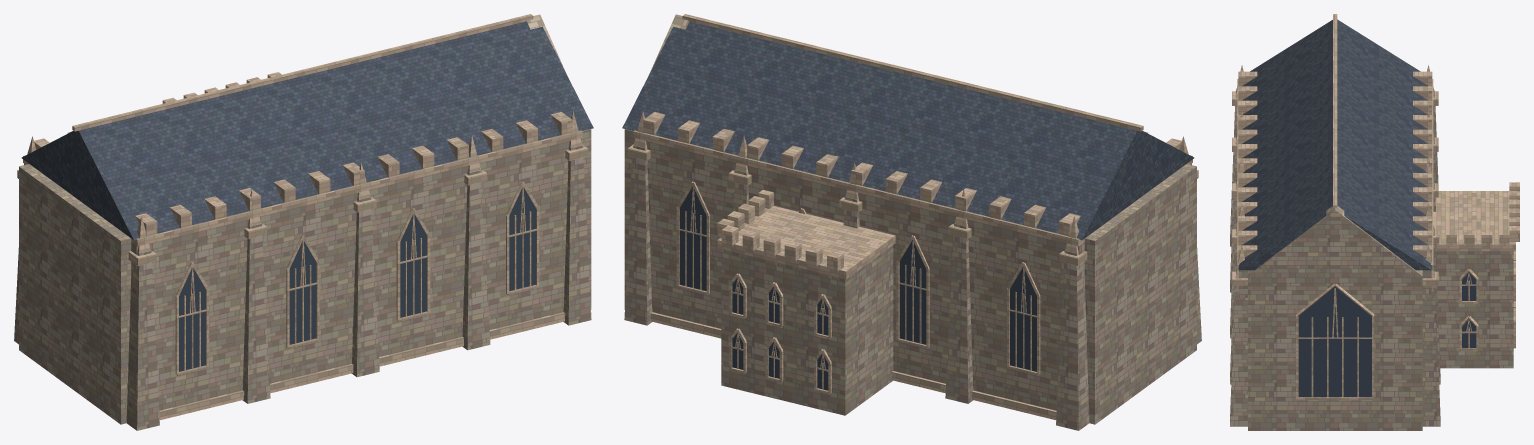
3 views of the same model, side by side, from view 1: azimuth 30°, elevation 25°; view 2: azimuth 150°, elevation 25°; view 3: azimuth 270°, elevation 25° (orthographic). The views are drawn at different scales.
Parts seen in each view (by area): view 1: Choir slate gabled roof002, Choir south wall002, Choir west transition wall002, Choir South buttress 003, Choir south parapet band002, Choir South buttress 008, Choir South buttress 007, Choir South buttress 009, Choir South buttress 010, Choir south plinth course002, Choir roof ridge coping002, Choir south lancet window 4_dark_glass002 (+4 smaller); view 2: Choir slate gabled roof002, Choir north wall002, Choir west transition wall002, Chapter house north block002, Chapter house parapet coping002, Choir North buttress 011, Choir north parapet band002, Choir North buttress 007, Choir North buttress 010, Choir roof ridge coping002, Choir north lancet window 2_dark_glass002, Choir north lancet window 4_dark_glass002 (+3 smaller); view 3: Choir slate gabled roof002, Choir east end wall002, Chapter house north block002, Choir east five-light window_dark_glass002, Choir east gable002, Chapter house parapet coping002, Choir North buttress 007, Choir South buttress 007, Choir roof ridge coping002, Choir north parapet band002, Choir south parapet band002, Chapter house east window 1_dark_glass002 (+7 smaller).
Boxes of the visible parts, bbox=[...] form: Choir slate gabled roof002: bbox=[21, 21, 593, 240]; Choir south wall002: bbox=[131, 138, 581, 410]; Choir west transition wall002: bbox=[19, 164, 131, 424]; Choir South buttress 003: bbox=[126, 250, 159, 430]; Choir south parapet band002: bbox=[131, 130, 582, 246]; Choir South buttress 008: bbox=[462, 170, 490, 350]; Choir South buttress 007: bbox=[563, 145, 591, 325]; Choir South buttress 009: bbox=[352, 197, 379, 377]; Choir South buttress 010: bbox=[242, 223, 270, 403]; Choir south plinth course002: bbox=[159, 312, 565, 419]; Choir roof ridge coping002: bbox=[72, 14, 533, 131]; Choir south lancet window 4_dark_glass002: bbox=[509, 187, 536, 290]; Choir slate gabled roof002: bbox=[622, 21, 1194, 240]; Choir north wall002: bbox=[634, 138, 1084, 410]; Choir west transition wall002: bbox=[1084, 164, 1196, 424]; Chapter house north block002: bbox=[721, 245, 893, 415]; Chapter house parapet coping002: bbox=[717, 206, 895, 279]; Choir North buttress 011: bbox=[1056, 250, 1089, 430]; Choir north parapet band002: bbox=[633, 130, 1084, 246]; Choir North buttress 007: bbox=[624, 145, 652, 325]; Choir North buttress 010: bbox=[945, 223, 973, 403]; Choir roof ridge coping002: bbox=[682, 14, 1143, 131]; Choir north lancet window 2_dark_glass002: bbox=[899, 240, 926, 344]; Choir north lancet window 4_dark_glass002: bbox=[679, 187, 706, 290]; Choir slate gabled roof002: bbox=[1238, 19, 1431, 270]; Choir east end wall002: bbox=[1248, 276, 1422, 430]; Chapter house north block002: bbox=[1436, 251, 1513, 368]; Choir east five-light window_dark_glass002: bbox=[1298, 287, 1371, 397]; Choir east gable002: bbox=[1248, 205, 1422, 276]; Chapter house parapet coping002: bbox=[1433, 191, 1515, 251]; Choir North buttress 007: bbox=[1422, 271, 1440, 426]; Choir South buttress 007: bbox=[1230, 271, 1247, 426]; Choir roof ridge coping002: bbox=[1333, 14, 1337, 207]; Choir north parapet band002: bbox=[1423, 79, 1433, 270]; Choir south parapet band002: bbox=[1237, 79, 1242, 270]; Chapter house east window 1_dark_glass002: bbox=[1462, 319, 1476, 348].
Size of the model in its own units: 35.06 by 18.4 by 21.76.
Materials: 4 (3 with a texture image).
